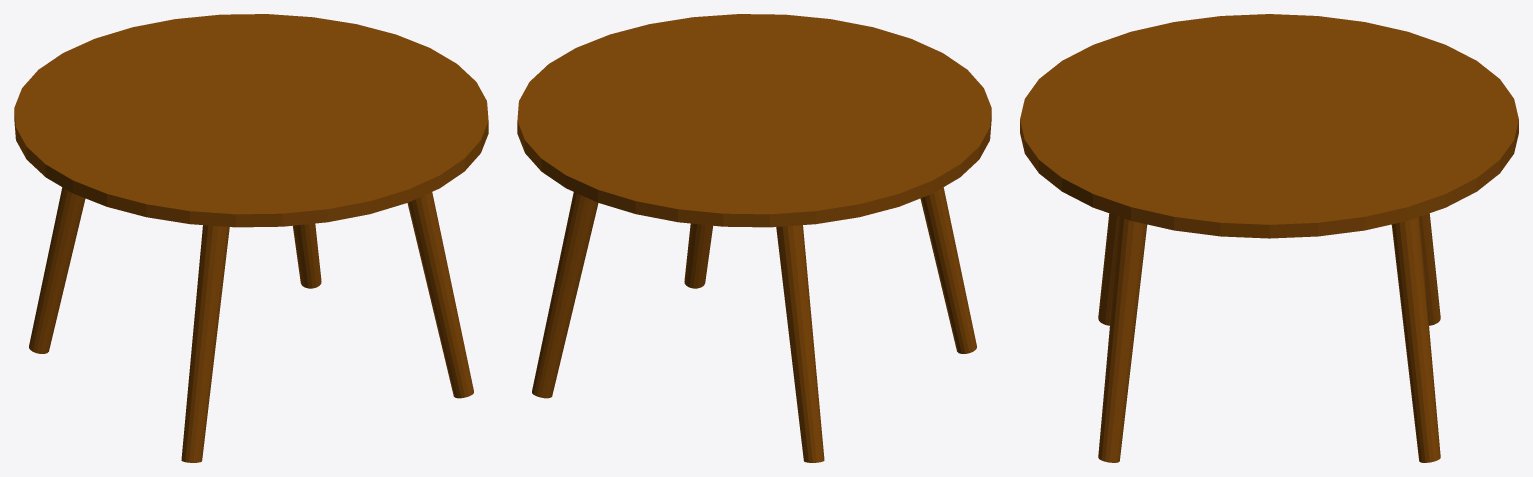
Rendered from tisch rund riss.fbx.
The picture shows the model from 3 angles, left to right: view 1: azimuth 30°, elevation 25°; view 2: azimuth 150°, elevation 25°; view 3: azimuth 270°, elevation 25°; orthographic projection. The views are drawn at different scales.
Visible parts, largest first — view 1: Cylinder.001, Cylinder.003, Cylinder.002, Cylinder.006, Cylinder.010, Cylinder, Cylinder.008, Cylinder.007, Cylinder.009, Cylinder.005; view 2: Cylinder.001, Cylinder.003, Cylinder.002, Cylinder.005, Cylinder.008, Cylinder.010, Cylinder.009, Cylinder.004, Cylinder, Cylinder.006; view 3: Cylinder.003, Cylinder.001, Cylinder.002, Cylinder, Cylinder.009, Cylinder.004, Cylinder.007, Cylinder.008, Cylinder.010.
Boxes of the visible parts, x1,y1,x2,y2 form: Cylinder.001: [14, 19, 314, 223]; Cylinder.003: [141, 14, 456, 129]; Cylinder.002: [190, 64, 488, 227]; Cylinder.006: [193, 225, 229, 338]; Cylinder.010: [181, 333, 216, 462]; Cylinder: [426, 276, 473, 398]; Cylinder.008: [29, 234, 76, 353]; Cylinder.007: [407, 192, 449, 283]; Cylinder.009: [293, 223, 321, 288]; Cylinder.005: [52, 187, 85, 240]; Cylinder.001: [598, 83, 991, 227]; Cylinder.003: [517, 55, 800, 202]; Cylinder.002: [549, 14, 983, 98]; Cylinder.005: [776, 225, 812, 341]; Cylinder.008: [789, 336, 824, 462]; Cylinder.010: [929, 231, 976, 353]; Cylinder.009: [532, 277, 579, 398]; Cylinder.004: [556, 192, 598, 283]; Cylinder: [684, 223, 712, 288]; Cylinder.006: [920, 187, 952, 236]; Cylinder.003: [1191, 95, 1514, 238]; Cylinder.001: [1093, 14, 1518, 151]; Cylinder.002: [1020, 45, 1269, 238]; Cylinder: [1098, 326, 1135, 462]; Cylinder.009: [1404, 328, 1440, 462]; Cylinder.004: [1391, 217, 1429, 332]; Cylinder.007: [1110, 217, 1147, 330]; Cylinder.008: [1419, 213, 1440, 325]; Cylinder.010: [1098, 213, 1119, 325].
Bounding box in the file's own units: 609 × 366 × 609.
